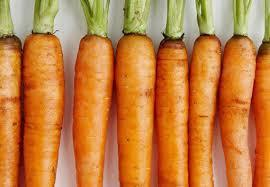Organic: (0, 3, 270, 147)
